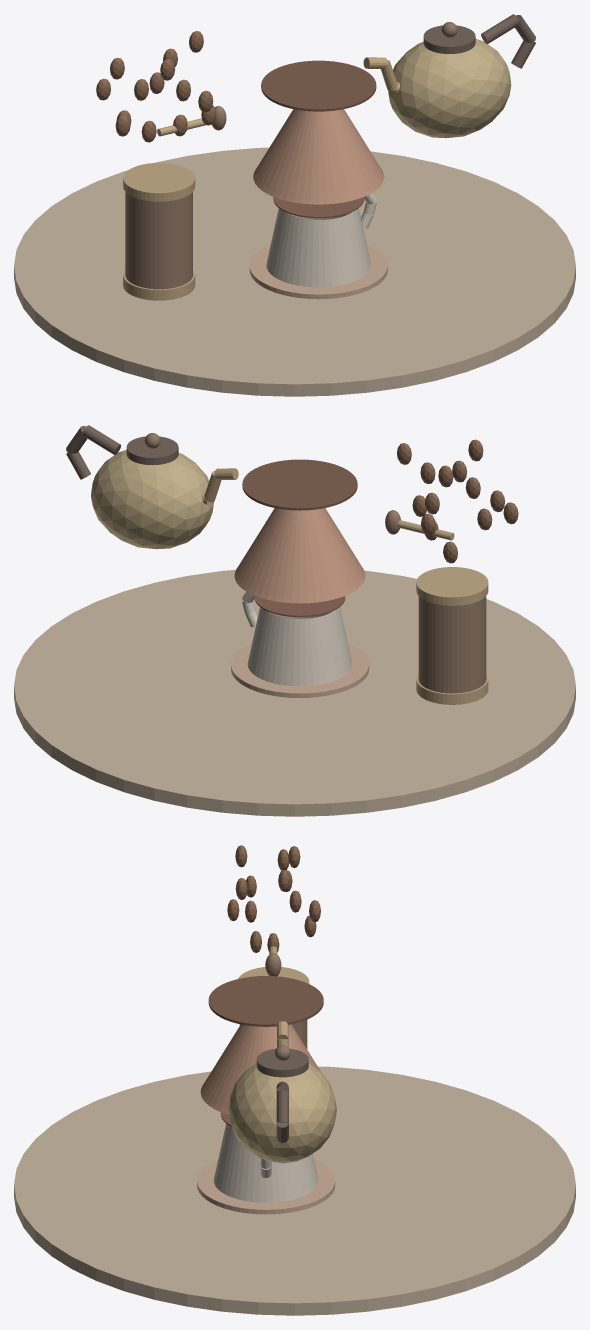
File: morrow-ceramic-brew-set.glb
The picture shows the model from 3 angles, top to bottom: view 1: azimuth 30°, elevation 25°; view 2: azimuth 150°, elevation 25°; view 3: azimuth 270°, elevation 25°; orthographic projection.
Visible parts, largest first — view 1: walnut_display_tray, dripper_terracotta_walls, brass_pour_kettle, ceramic_cup_walls, grinder_walnut_barrel, coffee_grounds, saucer, grinder_brass_collar, espresso_surface, kettle_lid, grinder_brass_base, kettle_handle_0; view 2: walnut_display_tray, dripper_terracotta_walls, brass_pour_kettle, ceramic_cup_walls, grinder_walnut_barrel, coffee_grounds, saucer, grinder_brass_collar, kettle_lid, espresso_surface, grinder_brass_base, kettle_handle_0; view 3: walnut_display_tray, brass_pour_kettle, coffee_grounds, ceramic_cup_walls, dripper_terracotta_walls, saucer, kettle_lid.
Boxes of the visible parts, left/top/right/bottom form: walnut_display_tray: left=14, top=147, right=575, bottom=396; dripper_terracotta_walls: left=253, top=109, right=384, bottom=204; brass_pour_kettle: left=388, top=39, right=511, bottom=138; ceramic_cup_walls: left=266, top=208, right=370, bottom=287; grinder_walnut_barrel: left=125, top=192, right=192, bottom=300; coffee_grounds: left=261, top=60, right=376, bottom=111; saucer: left=249, top=244, right=387, bottom=299; grinder_brass_collar: left=123, top=163, right=195, bottom=201; espresso_surface: left=273, top=197, right=363, bottom=218; kettle_lid: left=423, top=25, right=475, bottom=53; grinder_brass_base: left=123, top=270, right=195, bottom=300; kettle_handle_0: left=481, top=14, right=519, bottom=43; walnut_display_tray: left=14, top=569, right=575, bottom=816; dripper_terracotta_walls: left=234, top=508, right=365, bottom=603; brass_pour_kettle: left=91, top=450, right=213, bottom=549; ceramic_cup_walls: left=247, top=607, right=352, bottom=686; grinder_walnut_barrel: left=418, top=596, right=486, bottom=704; coffee_grounds: left=242, top=459, right=357, bottom=510; saucer: left=231, top=643, right=369, bottom=697; grinder_brass_collar: left=416, top=567, right=488, bottom=605; kettle_lid: left=126, top=436, right=178, bottom=465; espresso_surface: left=254, top=596, right=345, bottom=617; grinder_brass_base: left=416, top=674, right=488, bottom=704; kettle_handle_0: left=83, top=425, right=120, bottom=454; walnut_display_tray: left=14, top=1066, right=575, bottom=1315; brass_pour_kettle: left=228, top=1063, right=336, bottom=1163; coffee_grounds: left=208, top=976, right=323, bottom=1026; ceramic_cup_walls: left=213, top=1123, right=318, bottom=1202; dripper_terracotta_walls: left=200, top=1024, right=321, bottom=1114; saucer: left=197, top=1160, right=335, bottom=1214; kettle_lid: left=256, top=1048, right=308, bottom=1077.
Size of the model in its own units: 7.8 by 4.23 by 7.8.
